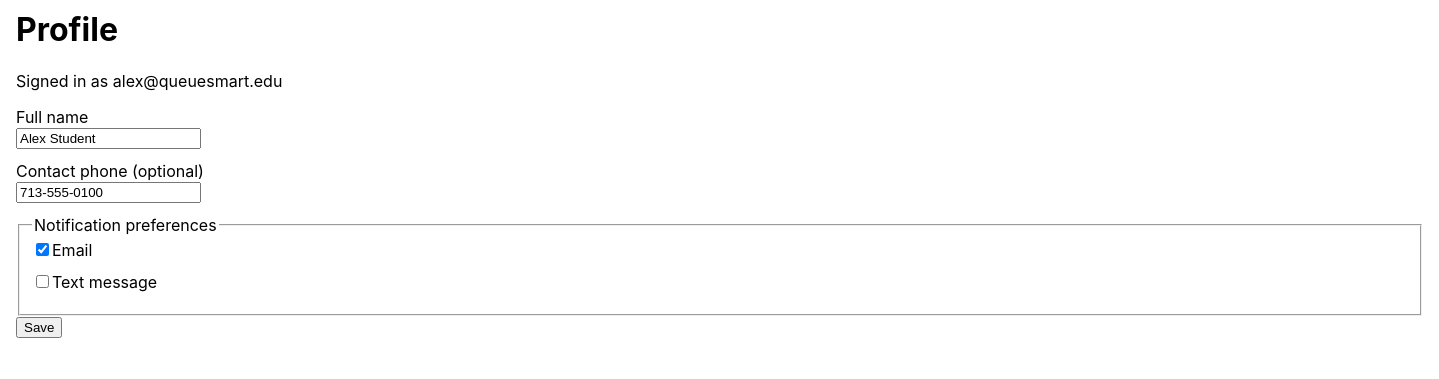
Test: Profile › lets a user remove their phone
Check: the field labelled "Full name" is shown, box [16, 128, 201, 149]
Clear the field labelled "Contact phone (optional)": (108, 192) [16, 182, 201, 203]
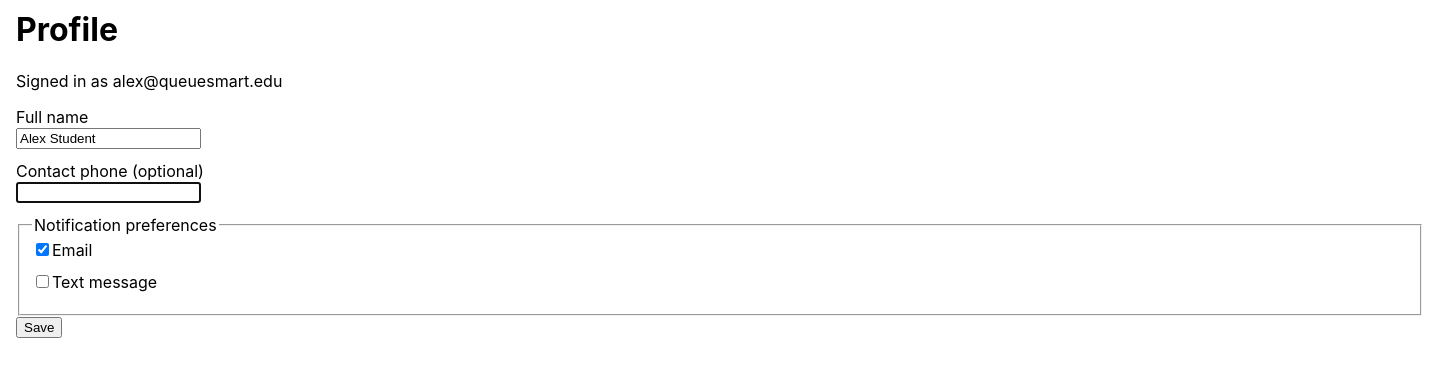
Click the button "Save": (39, 328) [16, 318, 62, 338]
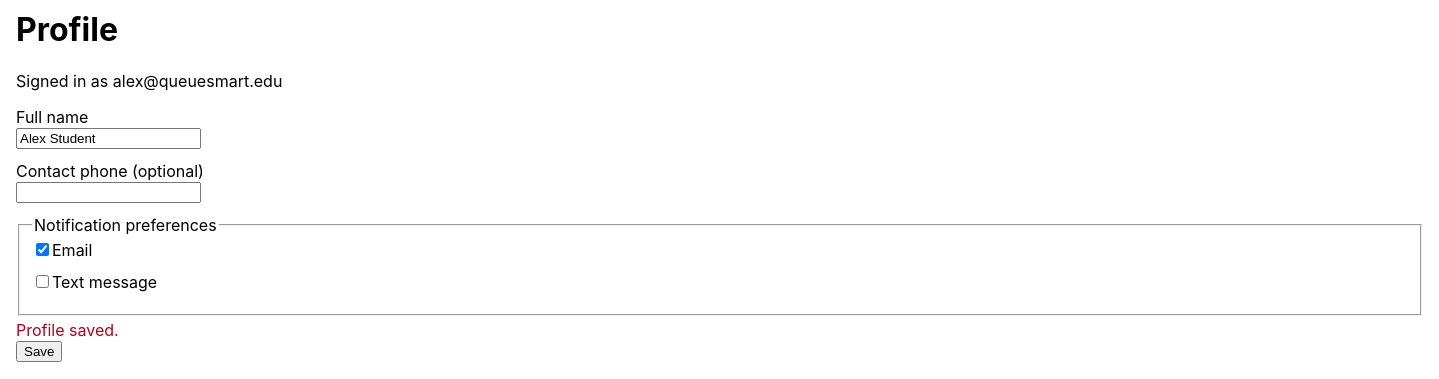
Check: the message "Profile saved." is shown, box [16, 320, 119, 340]
